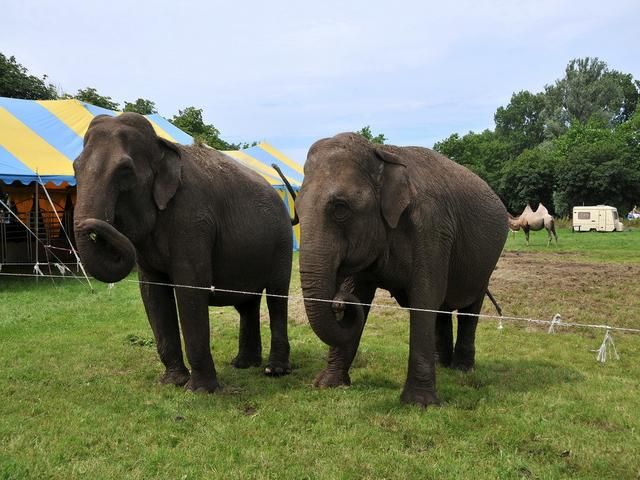elephant: (41, 83, 311, 418), (274, 117, 519, 395)
